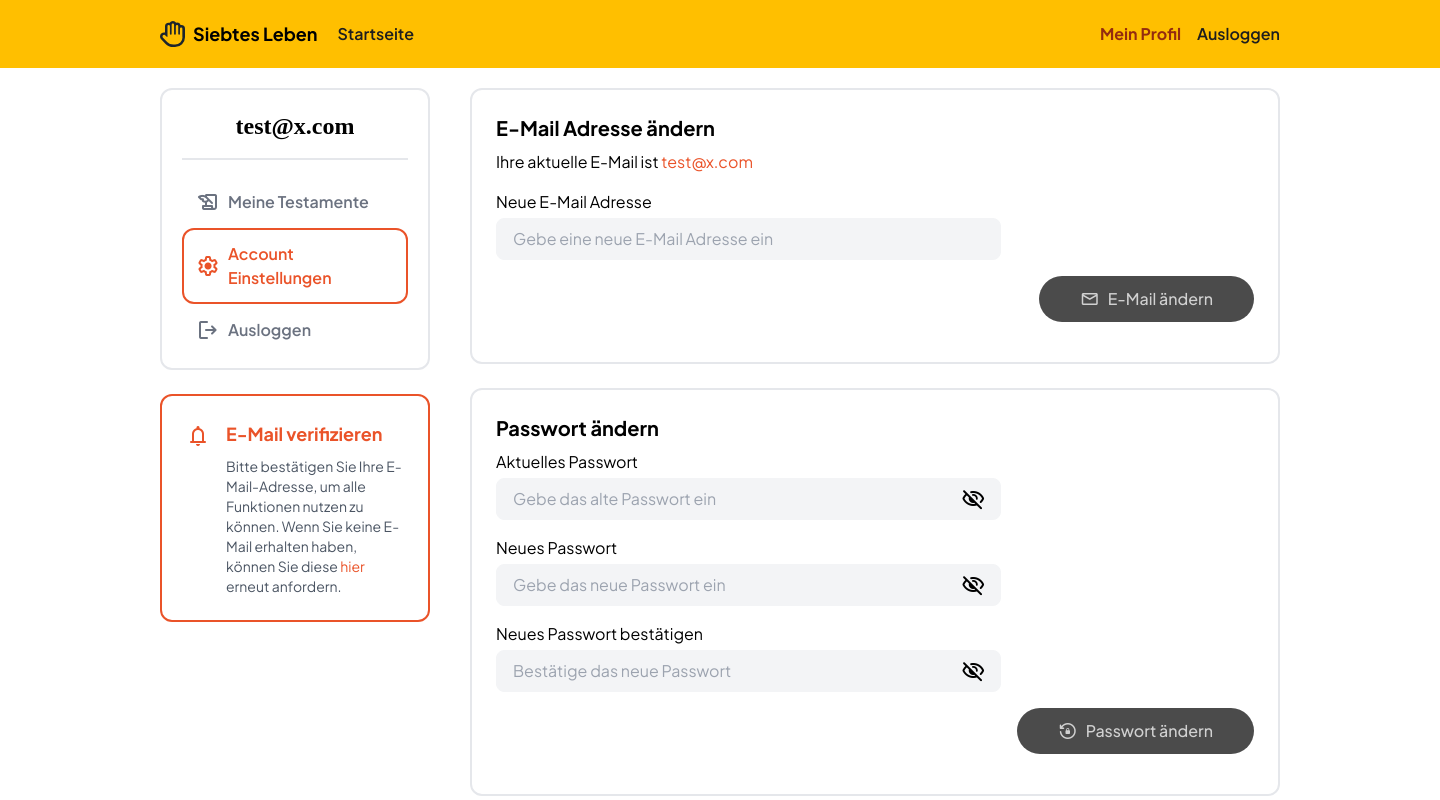
Test: Account Settings › Change Email › should show error message when email is not valid
In the field labelled "Neue E-Mail Adresse": (749,239) [496, 218, 1001, 260], type "test"
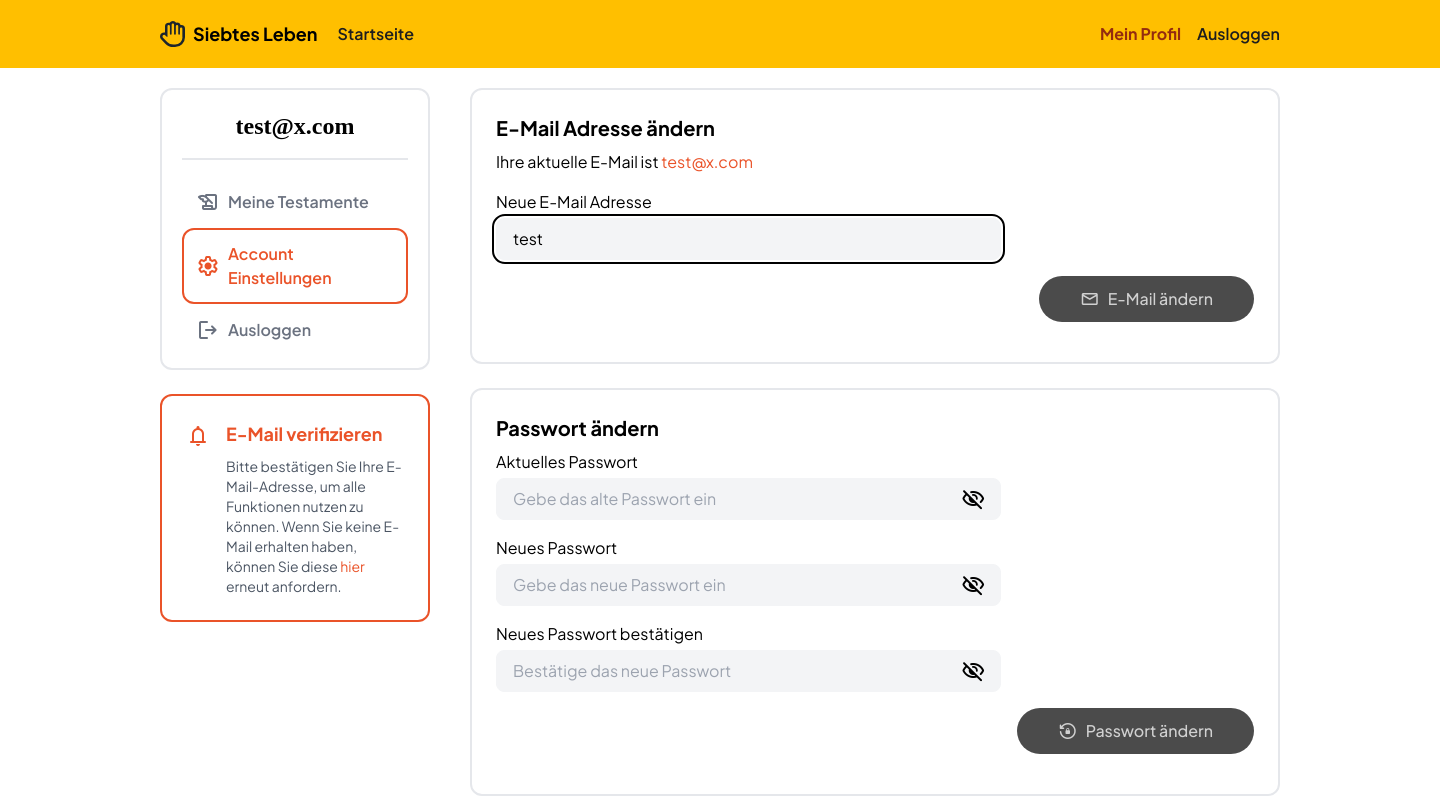
Leave the field labelled "Neue E-Mail Adresse", box [496, 218, 1001, 260]
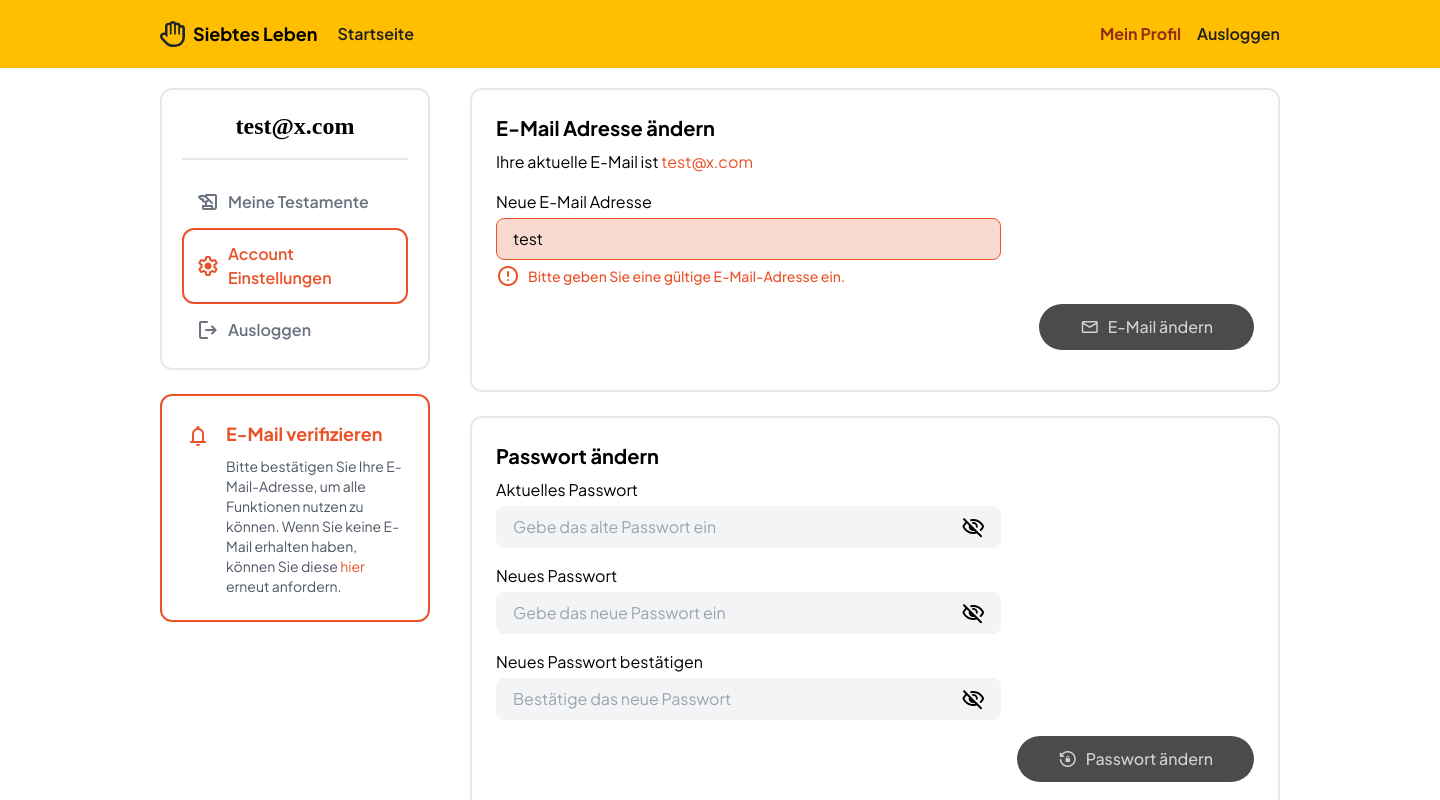
Expected: the element showing "Bitte geben Sie eine gültige E-Mail-Adresse ein." is shown, [496, 262, 845, 290]
